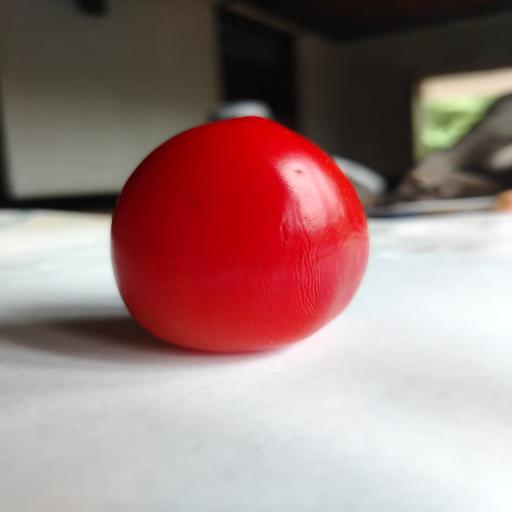ripe: (112, 117, 368, 351)
